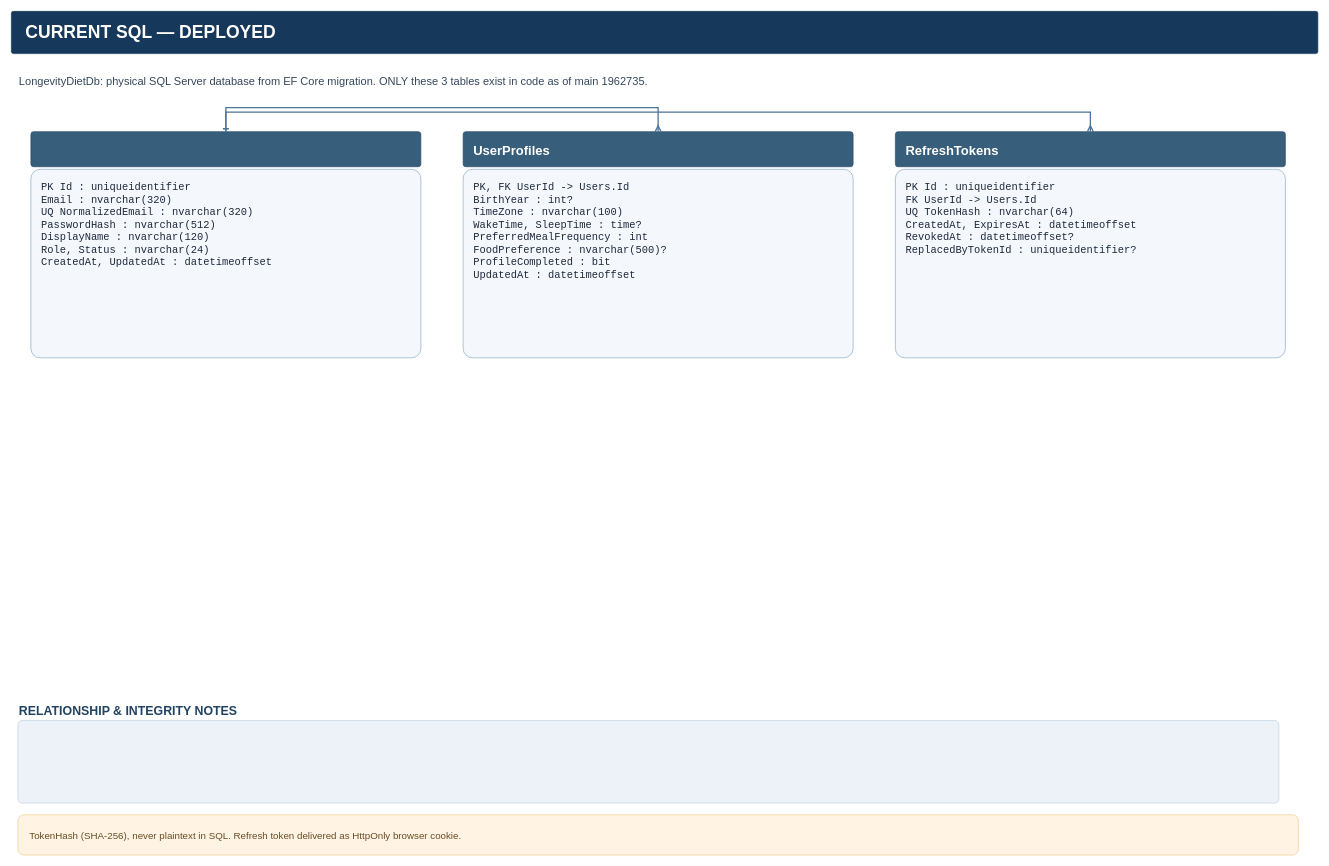
This 1329x866 diagram has some shape labels left out. The shapes that lost their labels are listed below. From the top down, each one's centre as x and y in pixels, then its label:
At (225,149): "Users".
At (648,761): "• Users 1 : 1 UserProfiles • Users 1 : many RefreshTokens".
